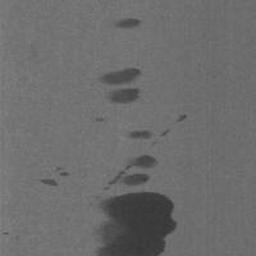Oil spot: (86, 152, 179, 256), (96, 67, 142, 105), (127, 127, 173, 148), (40, 165, 70, 188), (111, 15, 143, 31), (175, 114, 189, 123), (93, 115, 108, 123), (1, 232, 10, 236)
